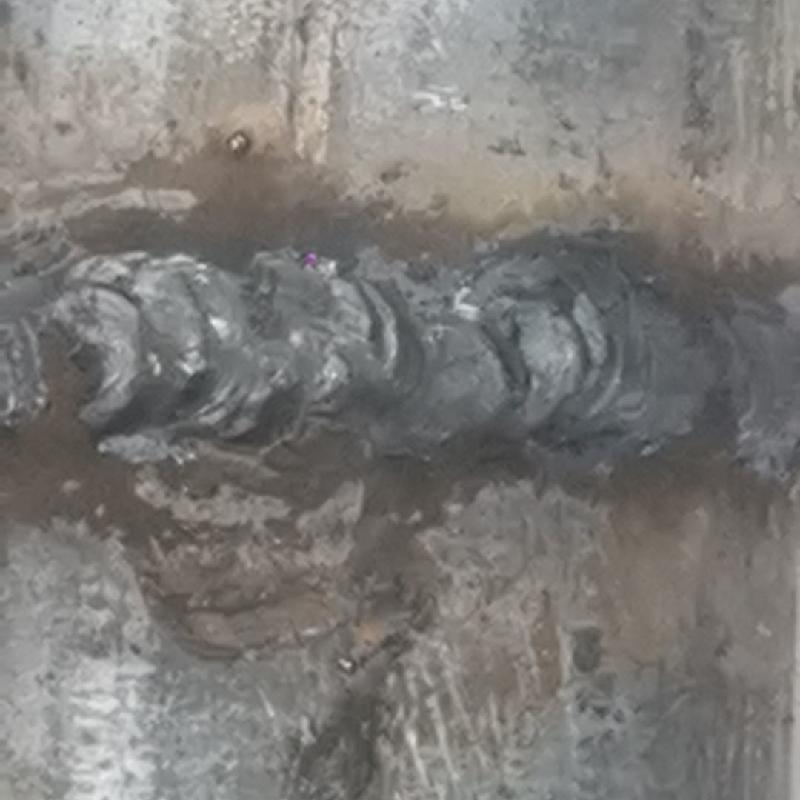good: (4, 243, 799, 489)
